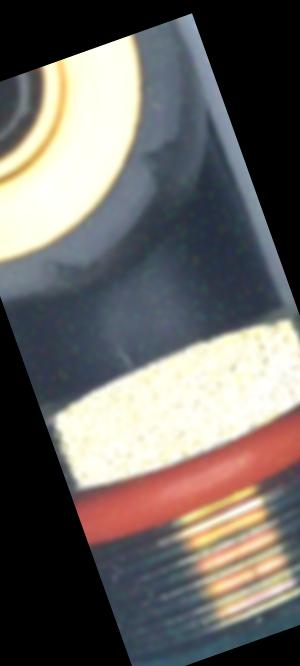bump: (128, 125, 192, 195), (37, 238, 98, 298)
joint line: (94, 277, 128, 331)
white mark: (103, 332, 141, 381)
